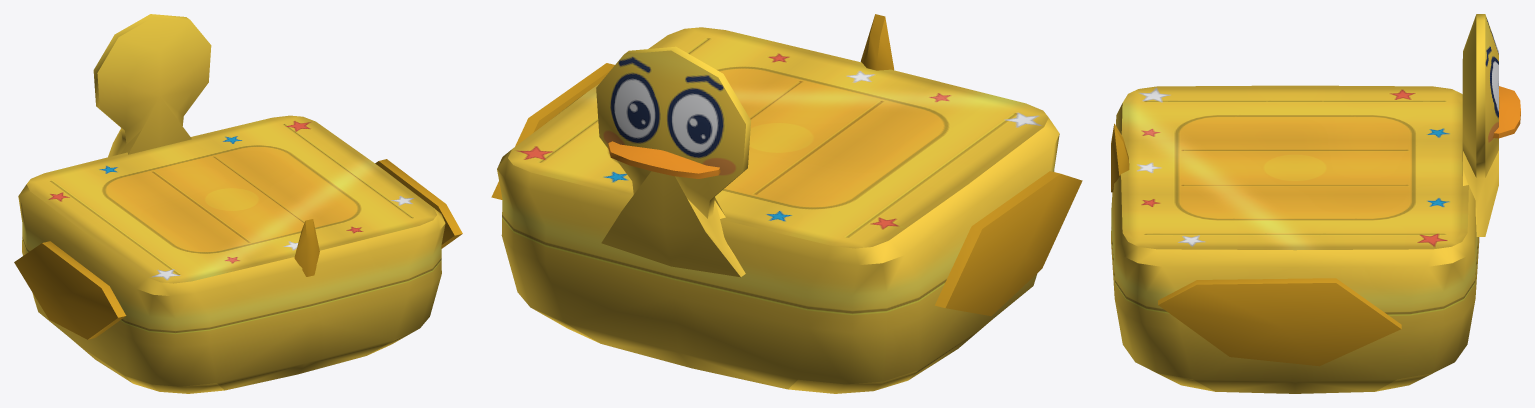
The model's file is pool_inflatable_duck_lod1.glb.
The picture shows the model from 3 angles, left to right: view 1: azimuth 30°, elevation 25°; view 2: azimuth 150°, elevation 25°; view 3: azimuth 270°, elevation 25°; orthographic projection. The views are drawn at different scales.
Parts seen in each view (by area): view 1: pool_inflatable_duck_LOD1; view 2: pool_inflatable_duck_LOD1; view 3: pool_inflatable_duck_LOD1.
Part boxes in pixels (<box>): pool_inflatable_duck_LOD1: <box>14,14,462,393</box>; pool_inflatable_duck_LOD1: <box>491,14,1082,393</box>; pool_inflatable_duck_LOD1: <box>1111,14,1520,393</box>.
Size of the model in its own units: 12 by 7.97 by 10.02.
1 material, 1 textured.
